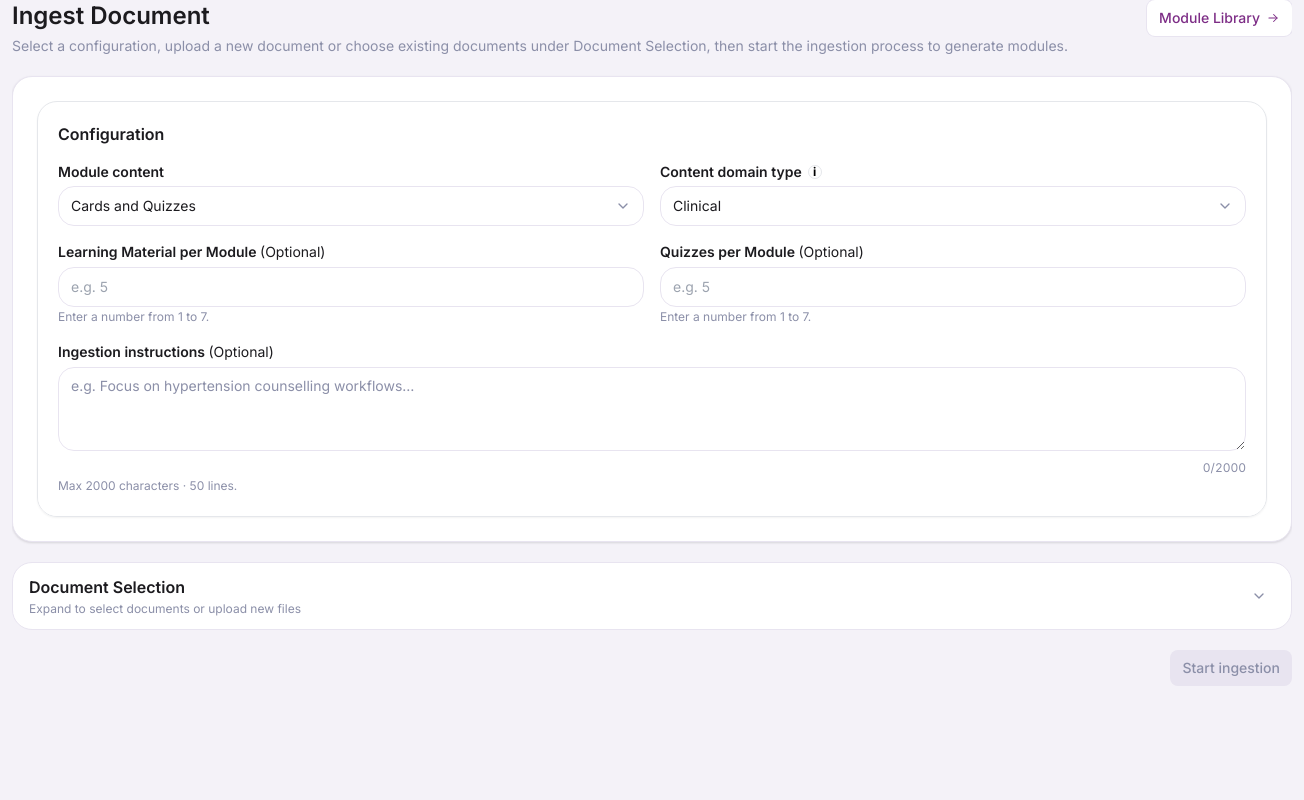
Test: IngestDocumentPage › keeps the document list open after selection and only uses checkboxes
Click the button named "Expand Document Selection". click: coordinates (1259, 596)
box: [1243,580,1275,612]
(page scrolled)
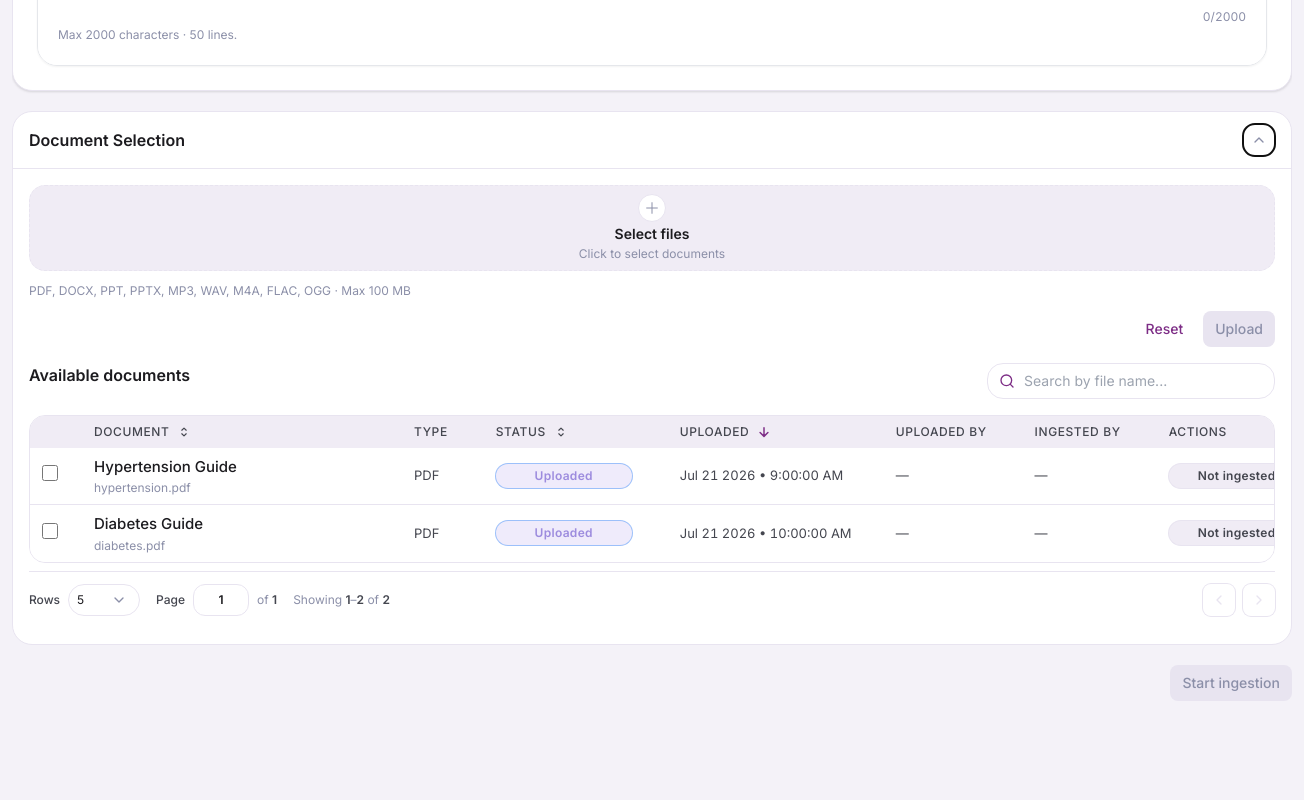
Click the checkbox named "select hypertension guide". click: coordinates (50, 473)
box: [42,465,58,481]
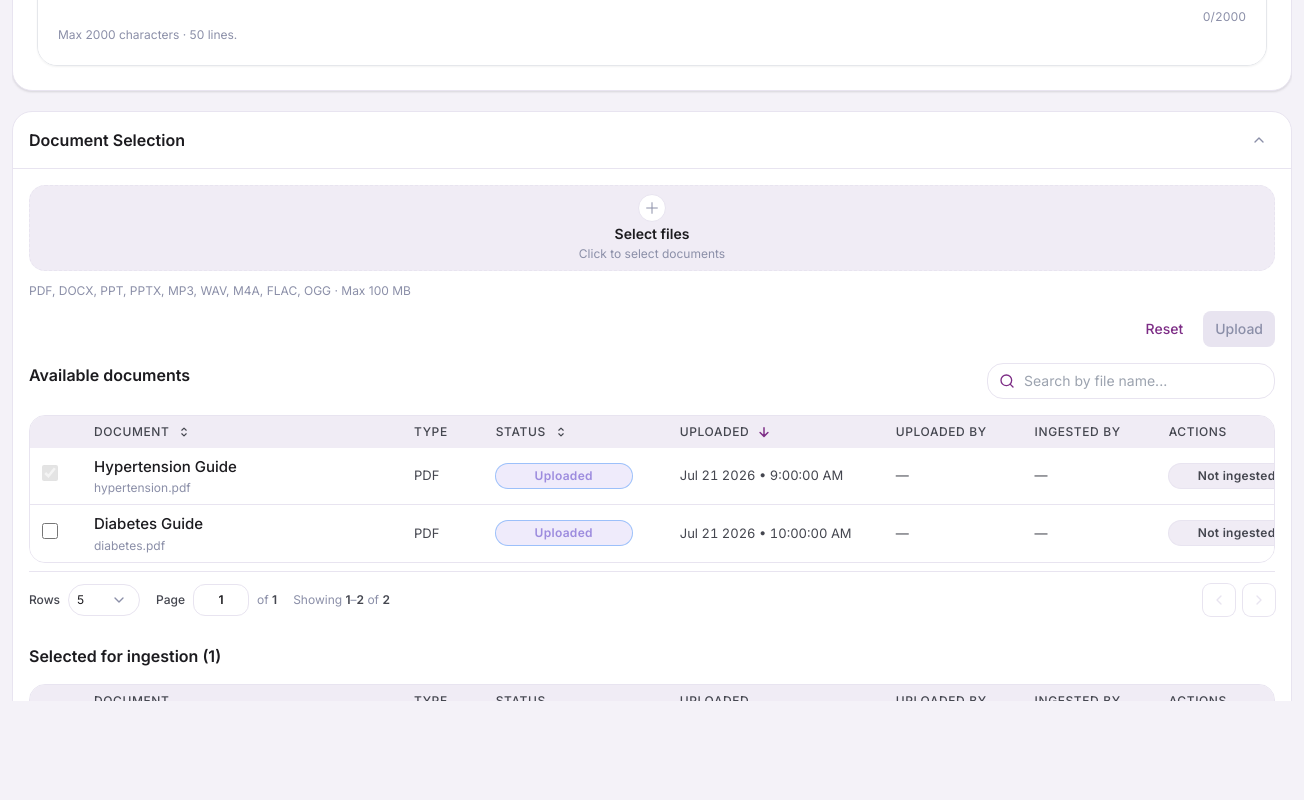
expect the text "Selected for ingestion (1)" is shown: met, box [29,644,221,668]
